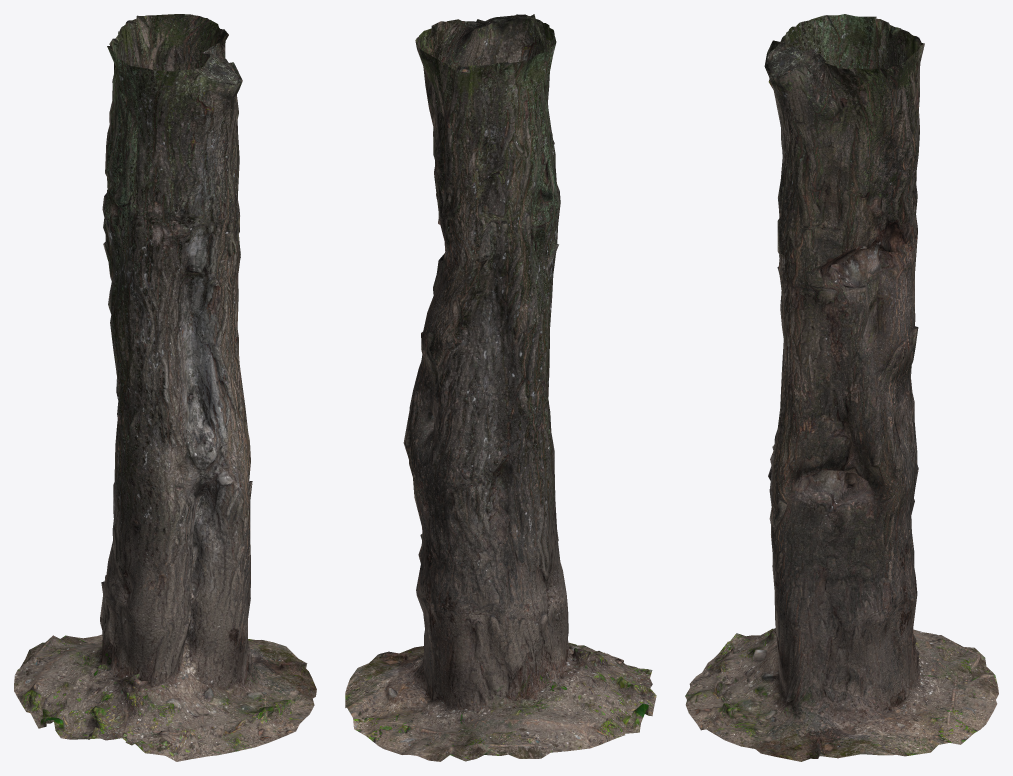
Rendered from PX_Cinnamomum_burmannii_Trunk_01_LOD3.fbx.
3 renders of one model, left to right at view 1: azimuth 30°, elevation 25°; view 2: azimuth 150°, elevation 25°; view 3: azimuth 270°, elevation 25°, orthographic. The views are drawn at different scales.
Visible parts, largest first — view 1: PX_Cinnamomum_burmannii_Trunk_01_LOD3; view 2: PX_Cinnamomum_burmannii_Trunk_01_LOD3; view 3: PX_Cinnamomum_burmannii_Trunk_01_LOD3.
Part boxes in pixels (x1,y1,x2,y2): PX_Cinnamomum_burmannii_Trunk_01_LOD3: [14, 14, 316, 761]; PX_Cinnamomum_burmannii_Trunk_01_LOD3: [345, 14, 656, 761]; PX_Cinnamomum_burmannii_Trunk_01_LOD3: [685, 14, 998, 761].
Size of the model in its own units: 99.35 by 237 by 101.
